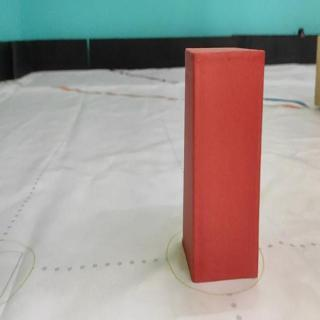redbox: (183, 45, 265, 279)
